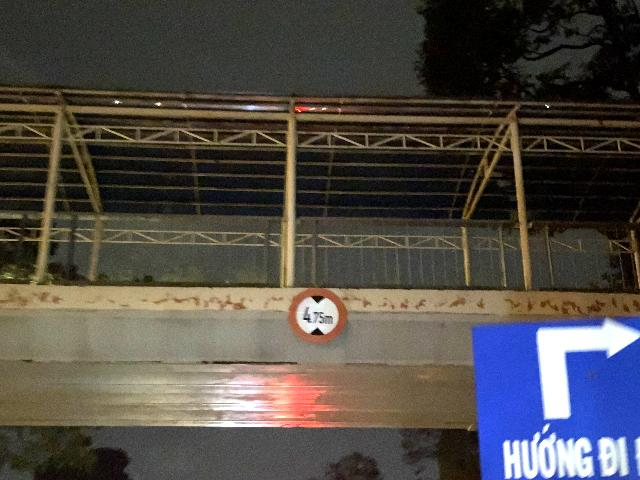han-che-chieu-cao: (288, 287, 349, 344)
